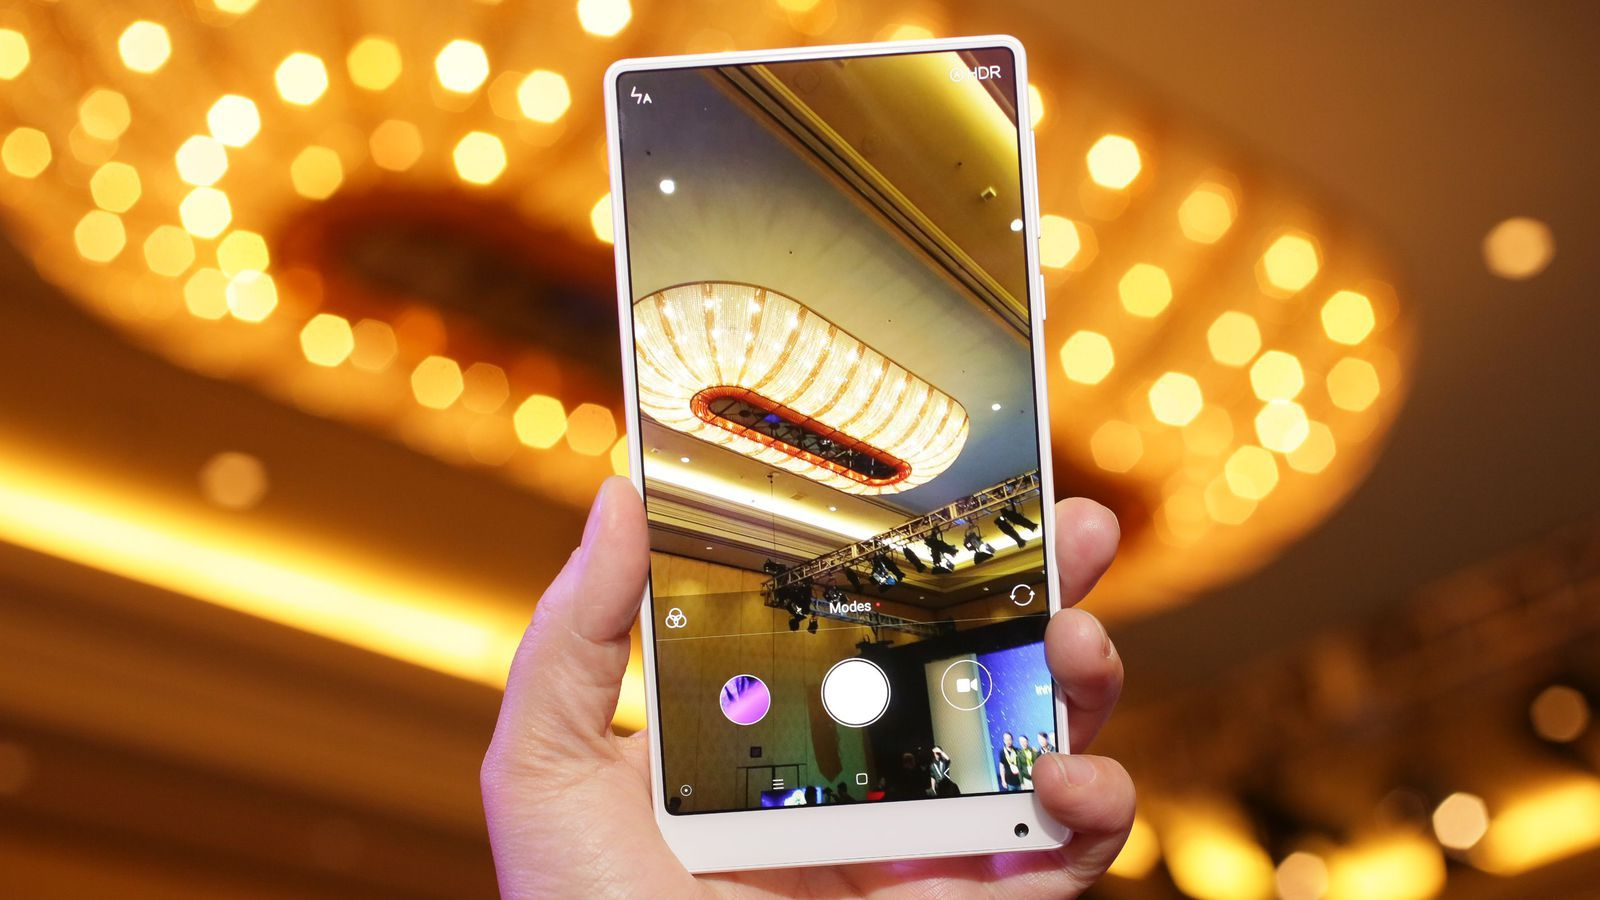smartphone: (602, 33, 1076, 875)
